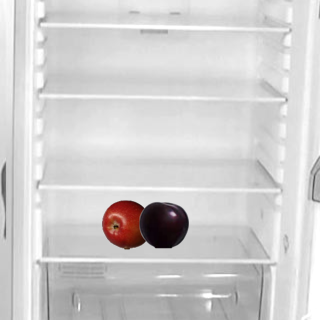Apple Braeburn: (101, 199, 151, 249)
Cherry Wax Black: (138, 199, 188, 249)
